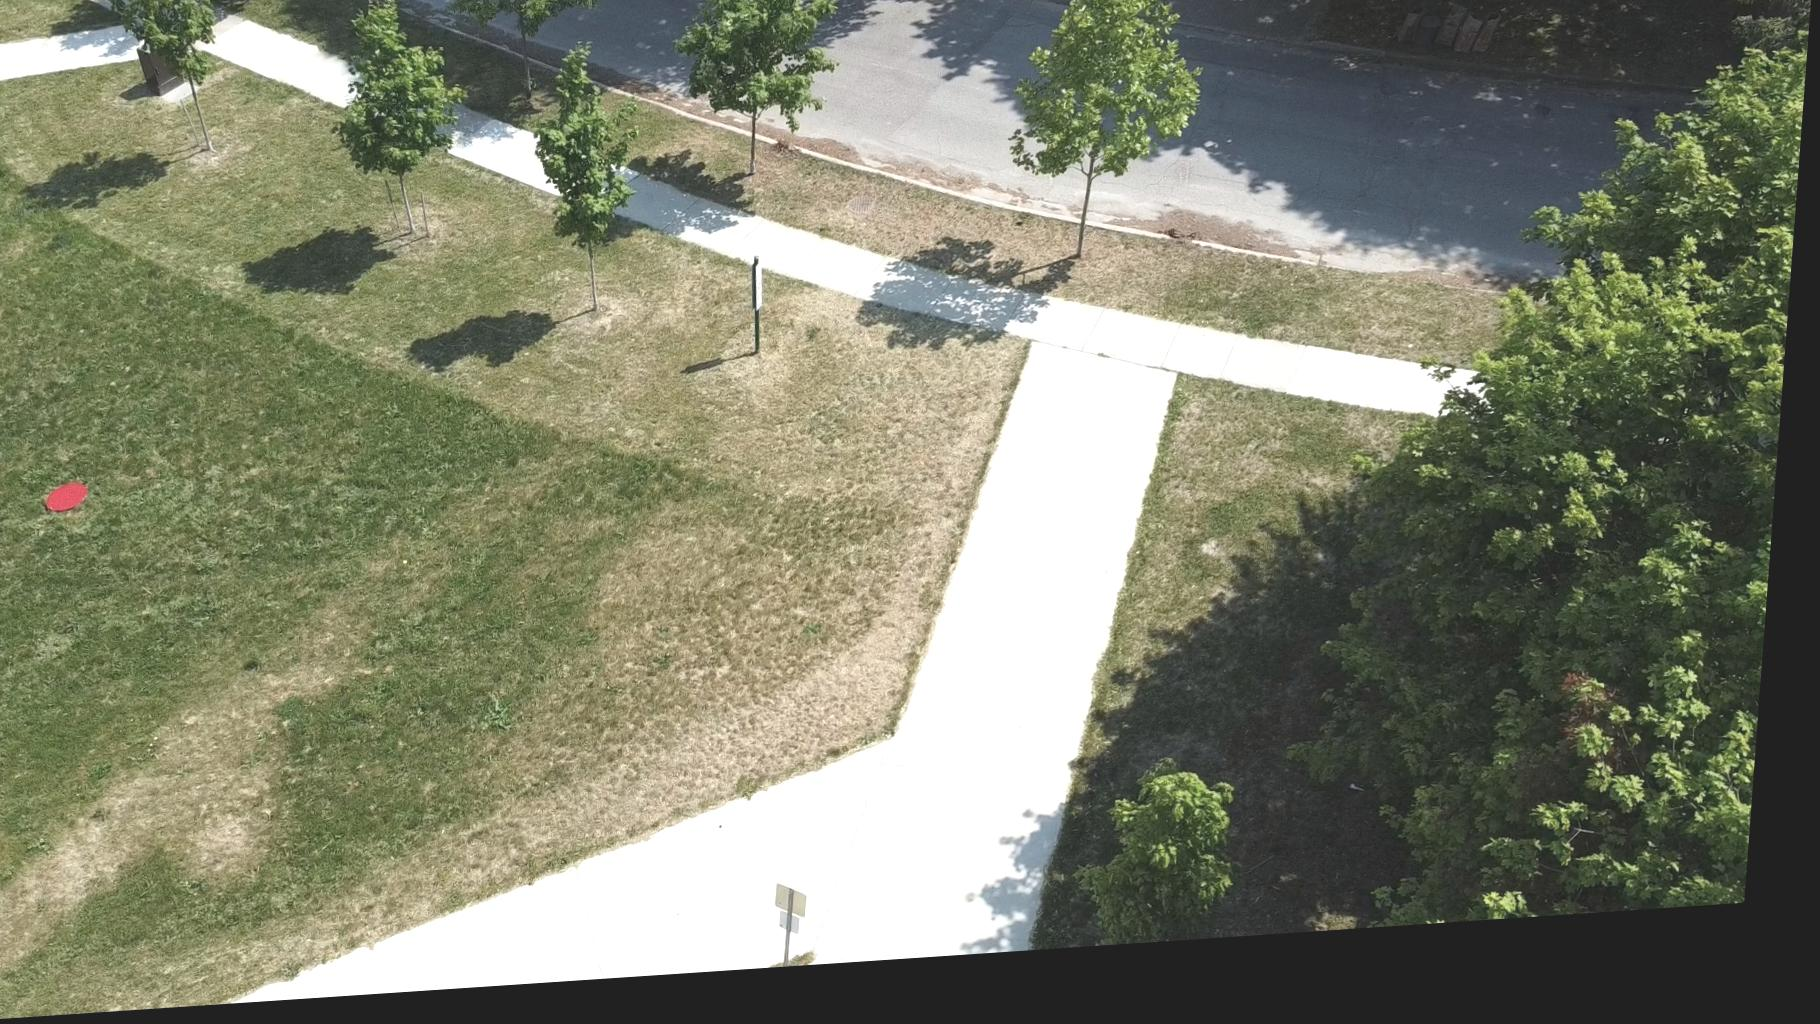Red: (51, 481, 97, 515)
